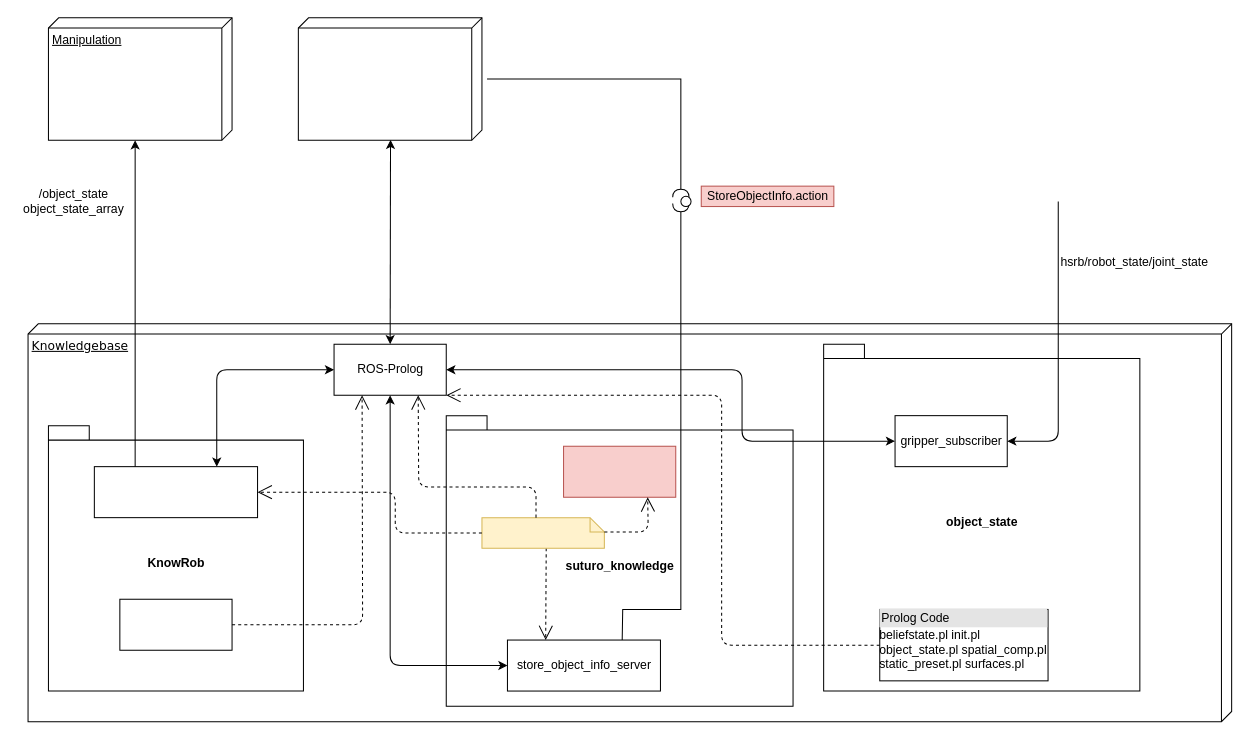
This 1250x740 diagram has some shape labels left out. Each missing label, with the centre of its shape:
"knowledge.launch" belongs at [542,532].
"object_state_publisher" belongs at [175,492].
"owl" belongs at [619,471].
"Planning" belongs at [389,78].
"Prolog Code" belongs at [175,624].
